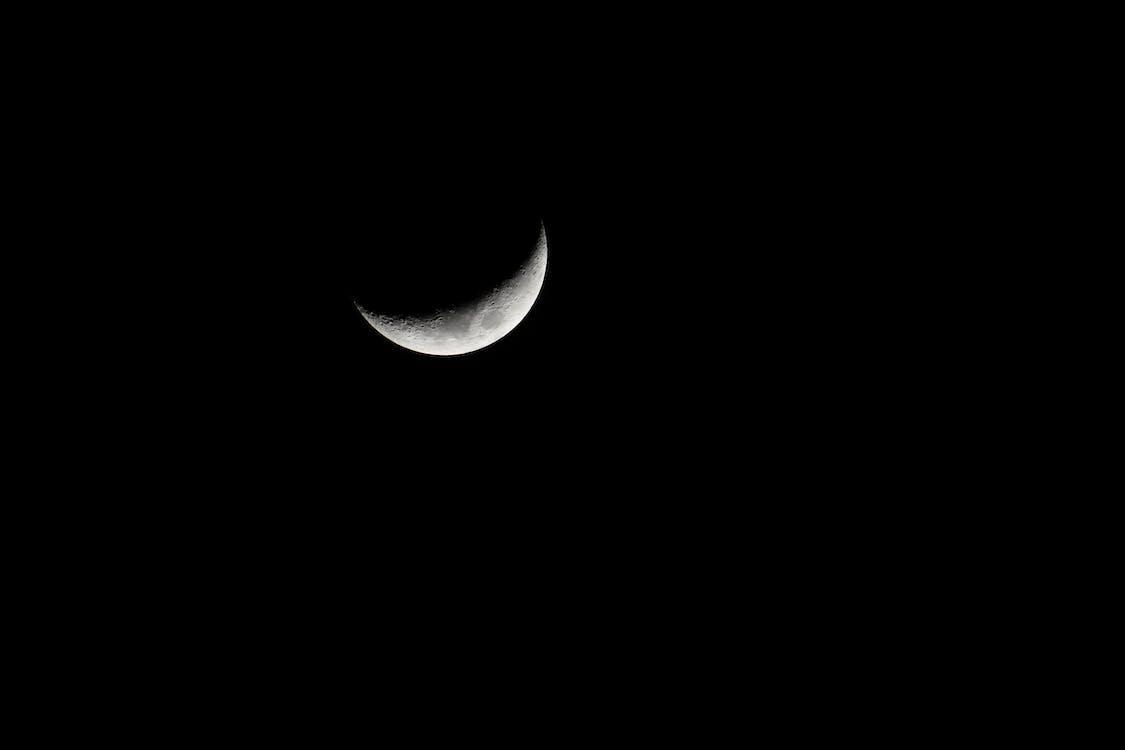moon: (335, 166, 563, 381)
